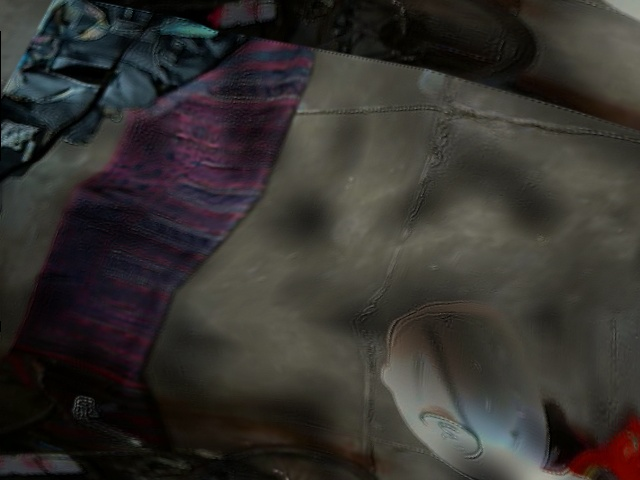three: (421, 407, 482, 467)
